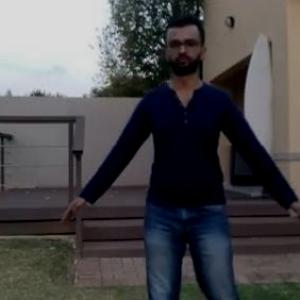land: (77, 35, 299, 299)
